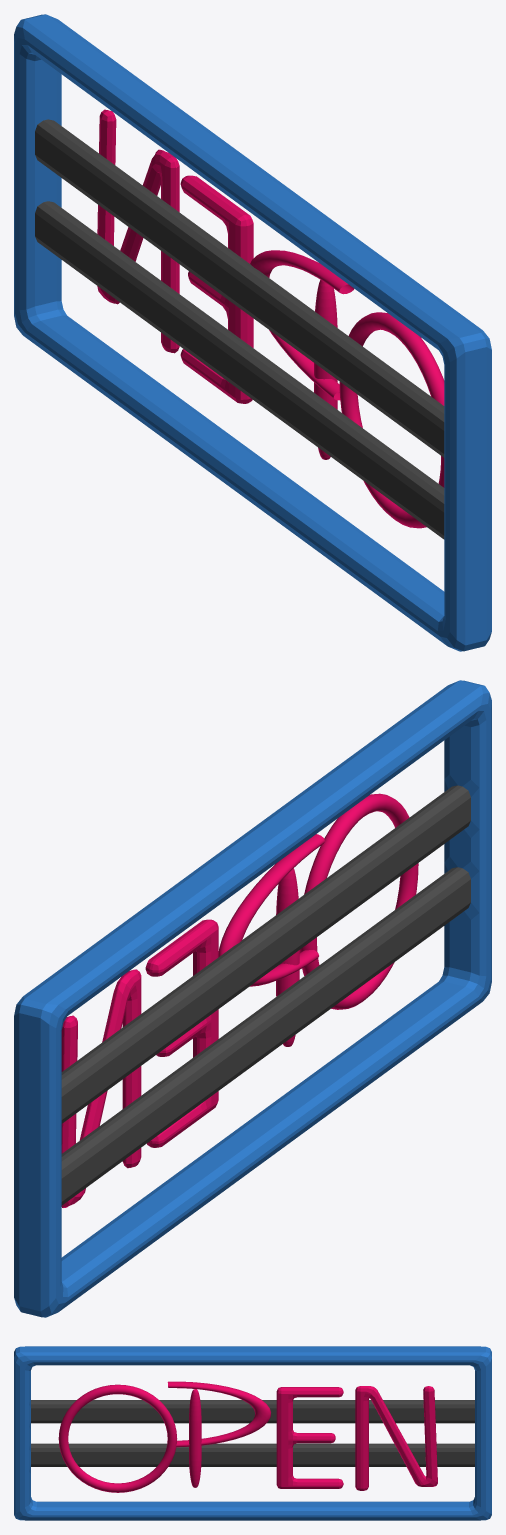
The model's file is NeonSignOpen.fbx.
3 views of the same model, one above another, from view 1: azimuth 30°, elevation 25°; view 2: azimuth 150°, elevation 25°; view 3: azimuth 270°, elevation 25° (orthographic). The views are drawn at different scales.
Visible parts, largest first — view 1: Cube, BézierCurve.001; view 2: Cube, BézierCurve.001; view 3: Cube, BézierCurve.001.
Boxes of the visible parts, x1,y1,x2,y2 form: Cube: (14,14,491,651); BézierCurve.001: (97,109,444,528); Cube: (14,680,491,1317); BézierCurve.001: (61,793,418,1207); Cube: (14,1346,491,1520); BézierCurve.001: (58,1381,437,1492).
Size of the model in its own units: 12.9 by 77.56 by 200.
